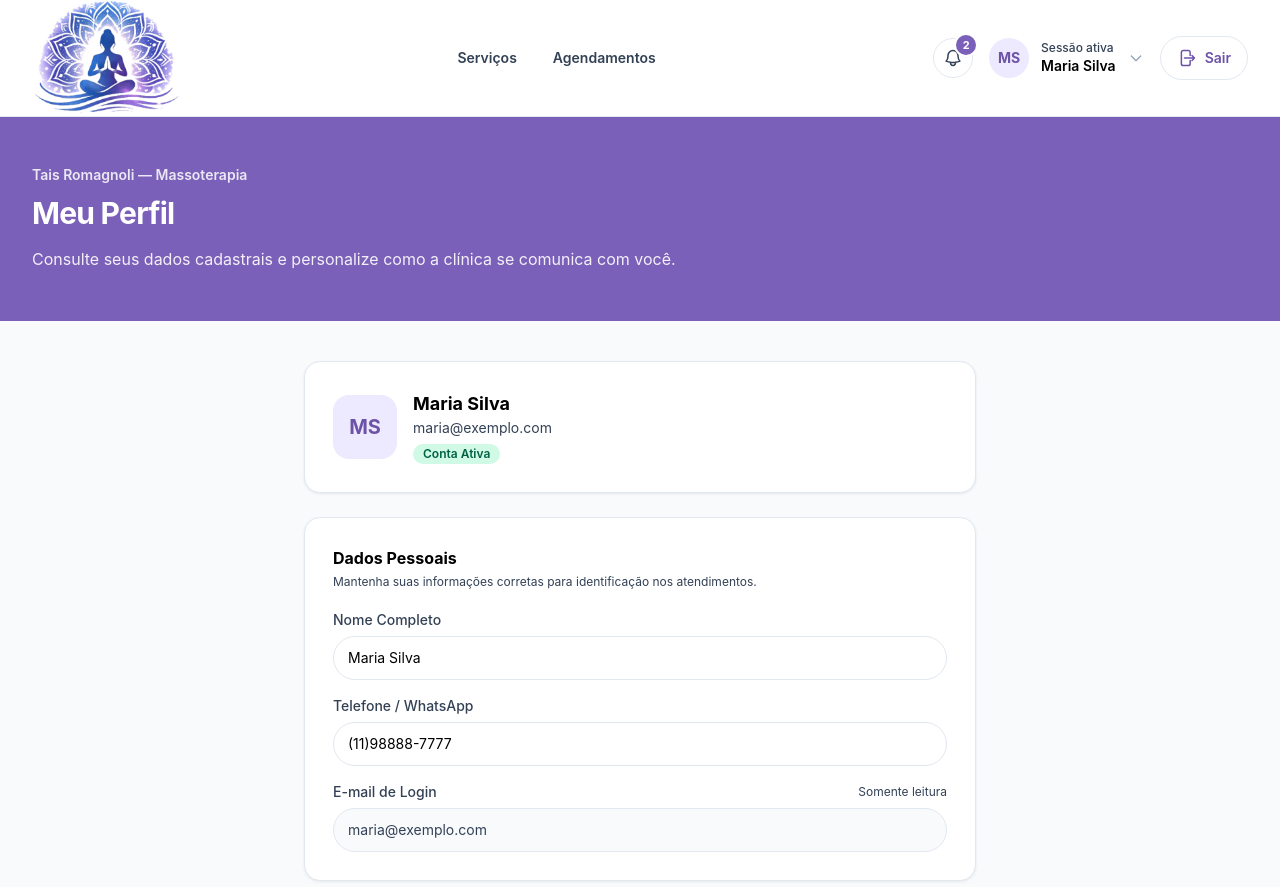
Scenario: ClientProfilePage › salva com sucesso as alterações de dados pessoais e preferências
Replace the text in the field labelled "Nome Completo" with "Maria Santos Silva" at (640, 658), box [333, 636, 947, 680]
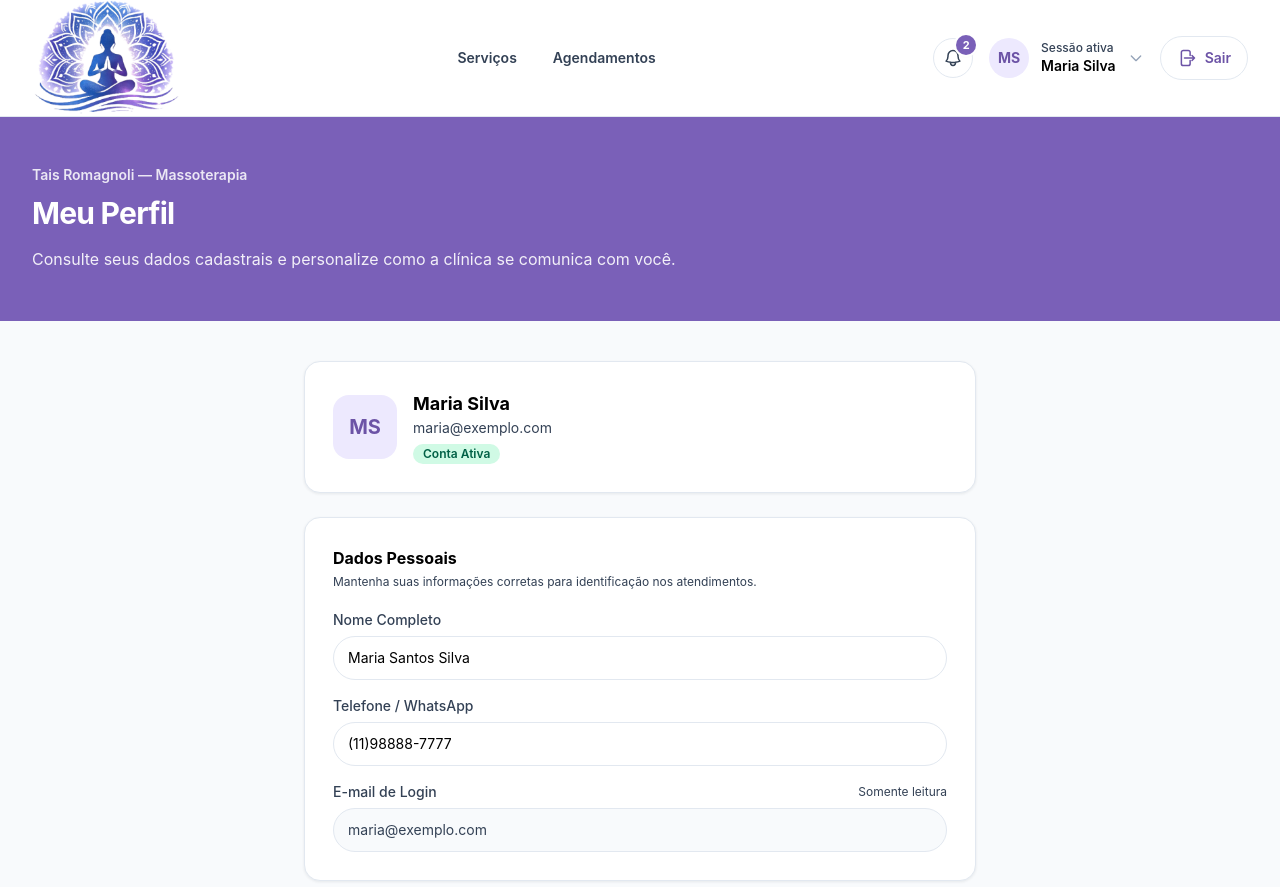
Replace the text in the field labelled "Telefone / WhatsApp" with "11912345678" at (640, 744), box [333, 722, 947, 766]
(page scrolled)
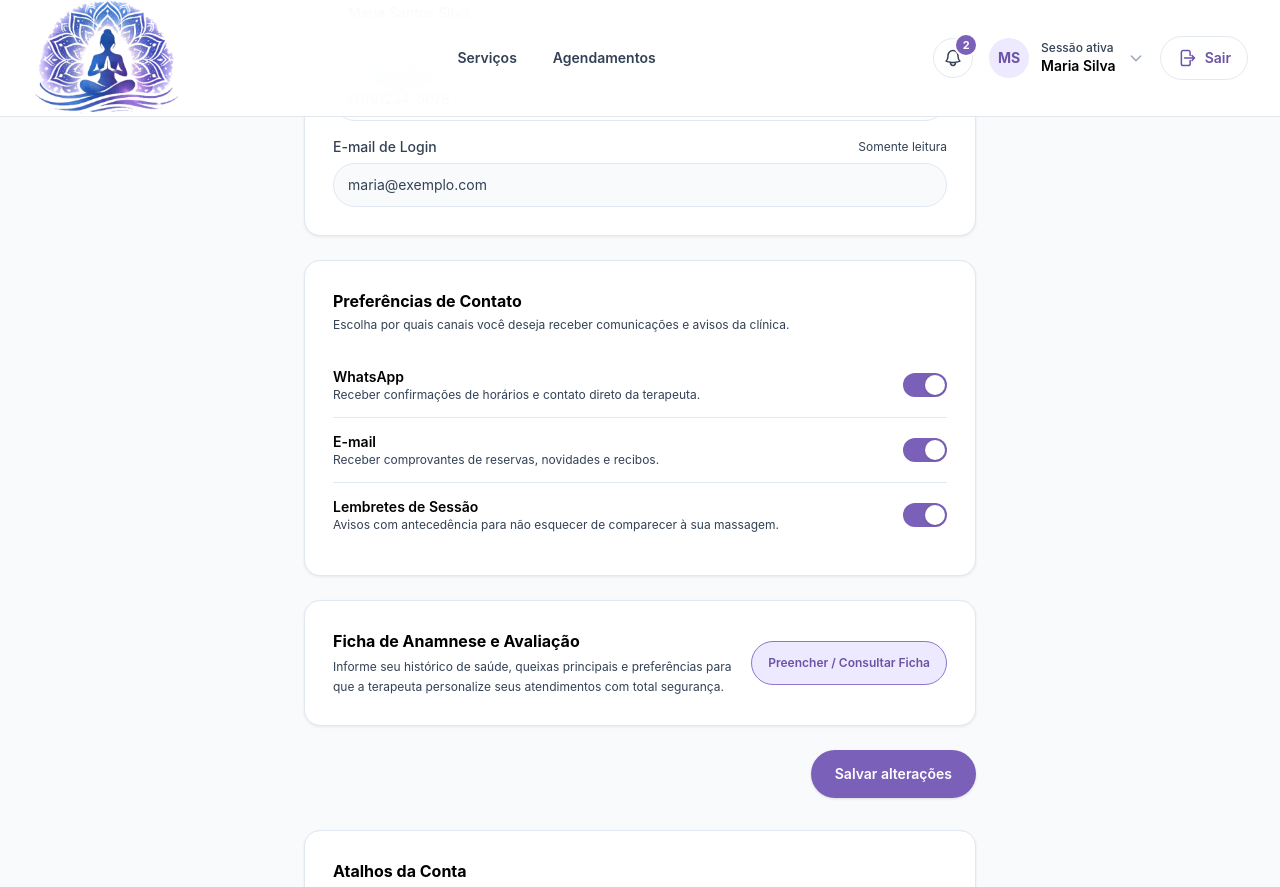
Click the 2nd switch named "notificações por e-mail" at (925, 450), box [903, 438, 947, 462]
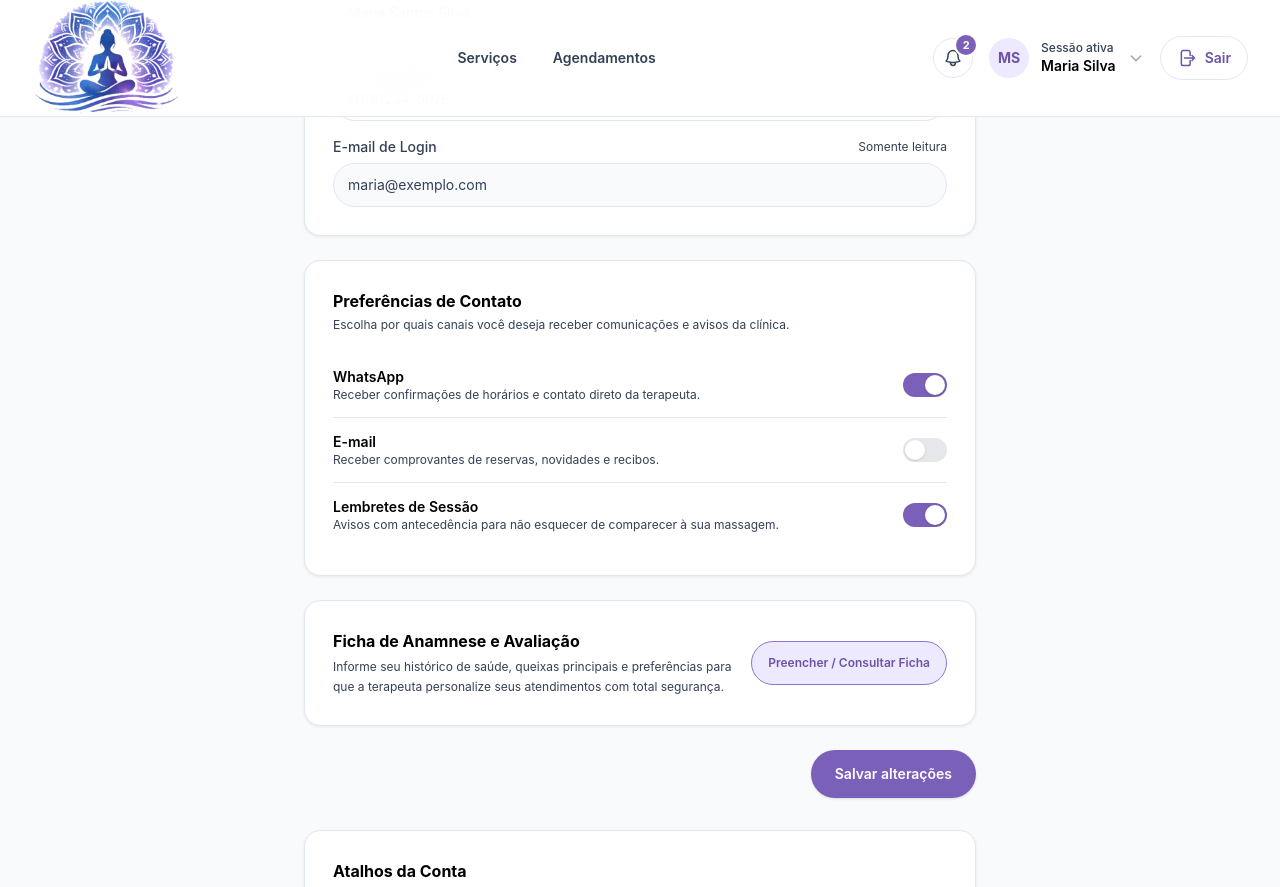
Click the button "Salvar alterações" at (893, 774), box [811, 750, 976, 798]
(page scrolled)
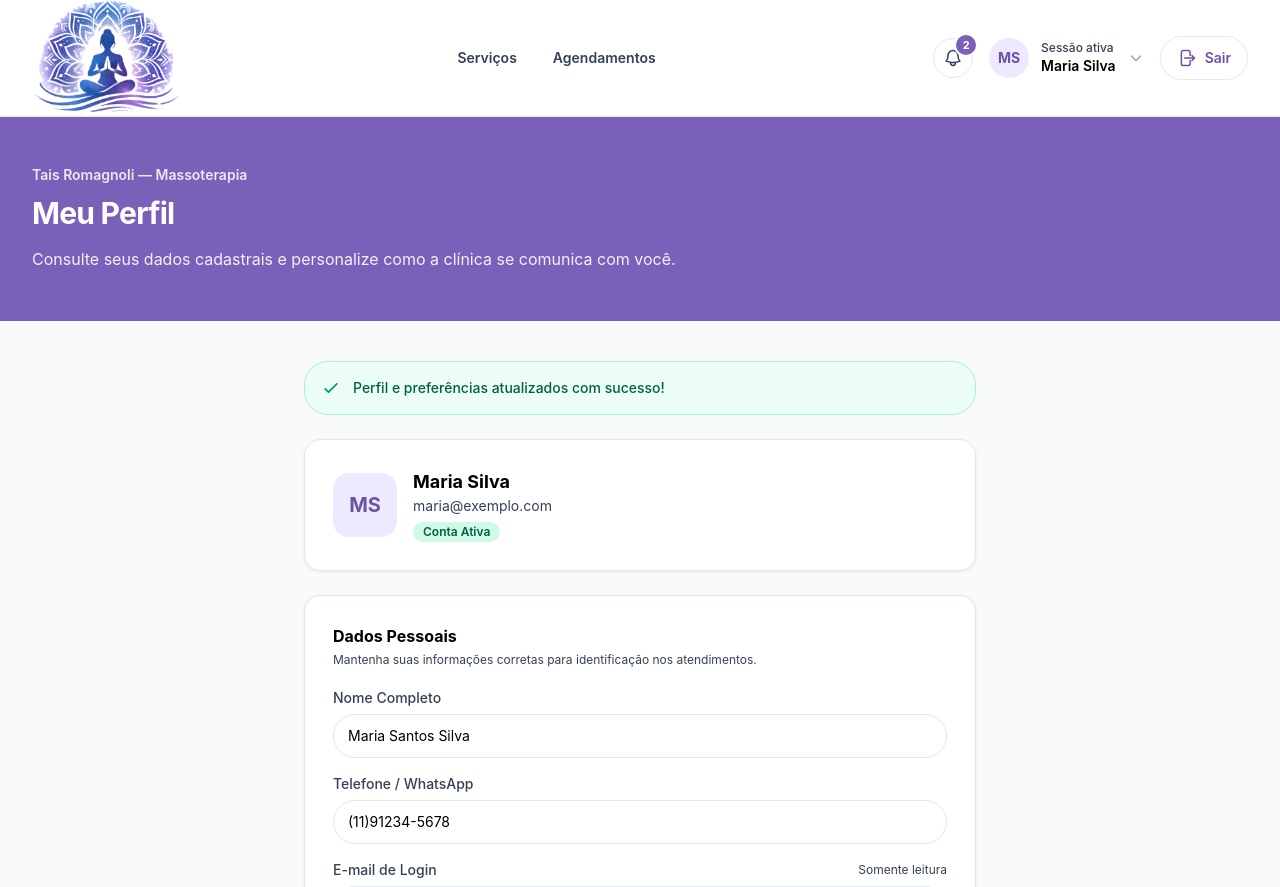
expect the text "Perfil e preferências atualizados com sucesso!" is shown: met, box [353, 378, 665, 398]
